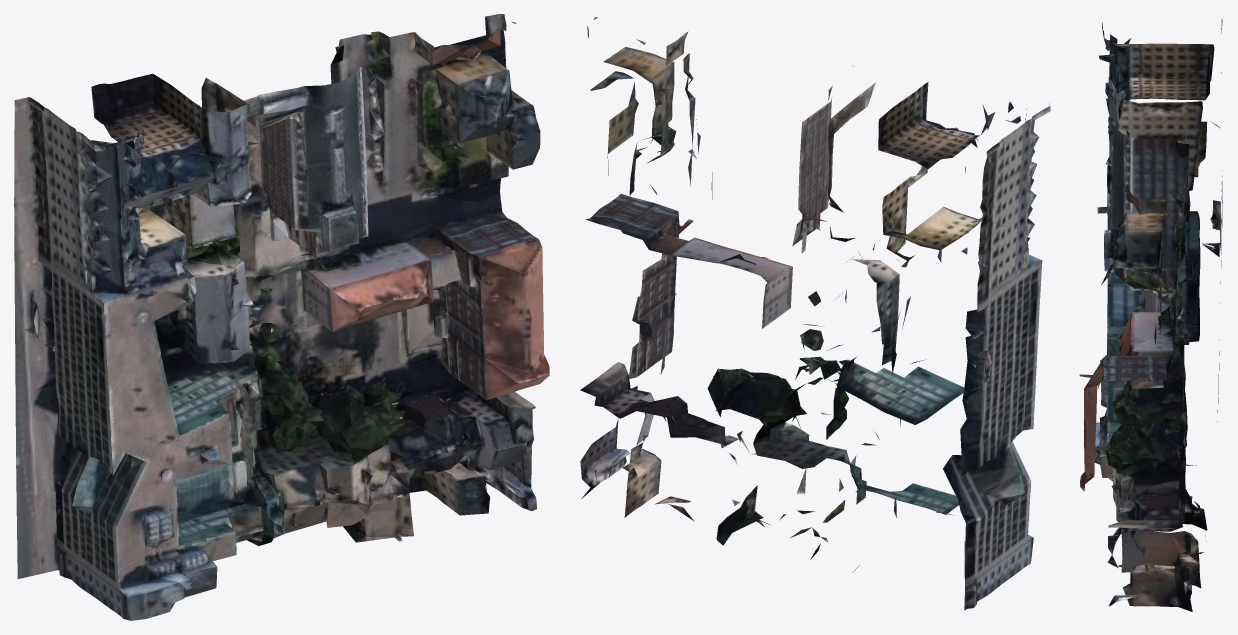
The model's file is Tile_+036_+023_L17_0000.glb.
The picture shows the model from 3 angles, left to right: view 1: azimuth 30°, elevation 25°; view 2: azimuth 150°, elevation 25°; view 3: azimuth 270°, elevation 25°; orthographic projection. The views are drawn at different scales.
Size of the model in its own units: 126 by 126 by 39.74.
1 material, 1 textured.
